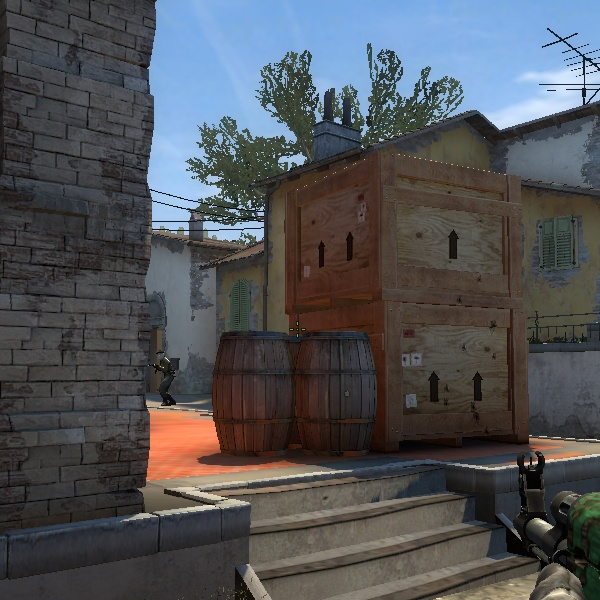t_body: (154, 349, 180, 404)
